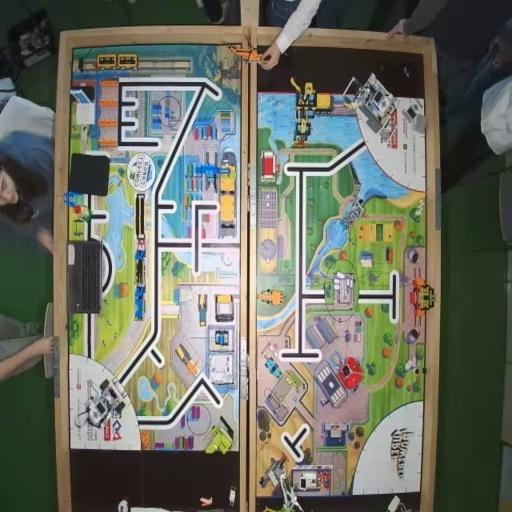lego_robot: (342, 72, 398, 134), (83, 378, 127, 430)
